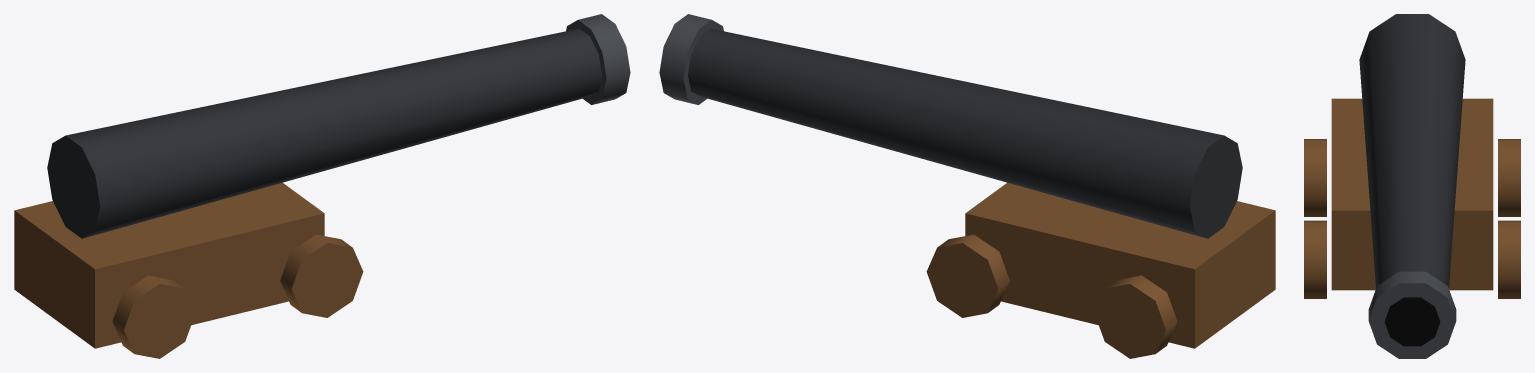
The model's file is mount-chaser.glb.
The picture shows the model from 3 angles, left to right: view 1: azimuth 30°, elevation 25°; view 2: azimuth 150°, elevation 25°; view 3: azimuth 270°, elevation 25°; orthographic projection.
Visible parts, largest first — view 1: Mesh_Barrel, Mesh_Carriage, Mesh_Wheel1, Mesh_Wheel3, Mesh_MuzzleRing; view 2: Mesh_Barrel, Mesh_Carriage, Mesh_Wheel0, Mesh_Wheel2, Mesh_MuzzleRing; view 3: Mesh_Barrel, Mesh_Carriage, Mesh_MuzzleRing, Mesh_Bore, Mesh_Wheel2, Mesh_Wheel3, Mesh_Wheel0, Mesh_Wheel1.
Boxes of the visible parts, x1,y1,x2,y2 form: Mesh_Barrel: (47, 28, 601, 238); Mesh_Carriage: (14, 182, 324, 348); Mesh_Wheel1: (112, 275, 195, 358); Mesh_Wheel3: (280, 234, 363, 317); Mesh_MuzzleRing: (566, 14, 630, 104); Mesh_Barrel: (688, 28, 1242, 238); Mesh_Carriage: (965, 182, 1275, 348); Mesh_Wheel0: (1094, 275, 1177, 358); Mesh_Wheel2: (926, 234, 1009, 317); Mesh_MuzzleRing: (659, 14, 723, 104); Mesh_Barrel: (1359, 14, 1465, 288); Mesh_Carriage: (1331, 98, 1493, 290); Mesh_MuzzleRing: (1368, 271, 1456, 358); Mesh_Bore: (1384, 297, 1440, 346); Mesh_Wheel2: (1498, 220, 1520, 298); Mesh_Wheel3: (1304, 220, 1326, 298); Mesh_Wheel0: (1498, 139, 1520, 216); Mesh_Wheel1: (1304, 139, 1326, 216).
Bounding box in the file's own units: 2.79 × 0.8887 × 0.94.
